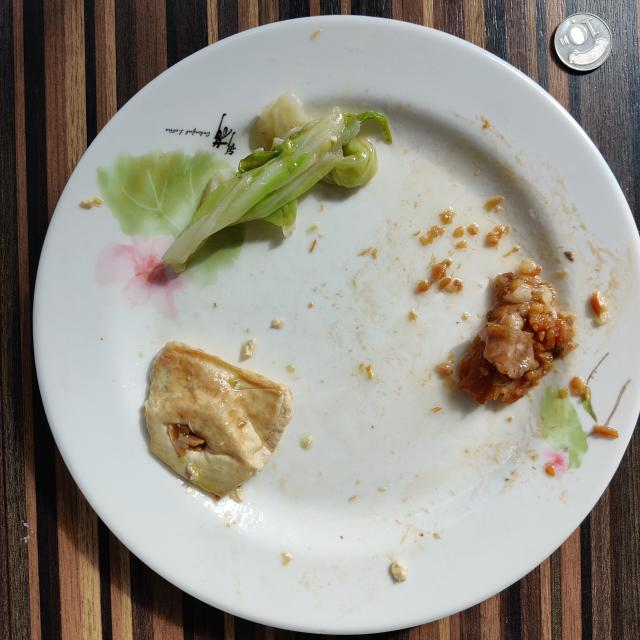Kabayaki sea bream fillet: (458, 260, 578, 404)
cabbage: (162, 92, 392, 272)
coin: (554, 12, 611, 71)
